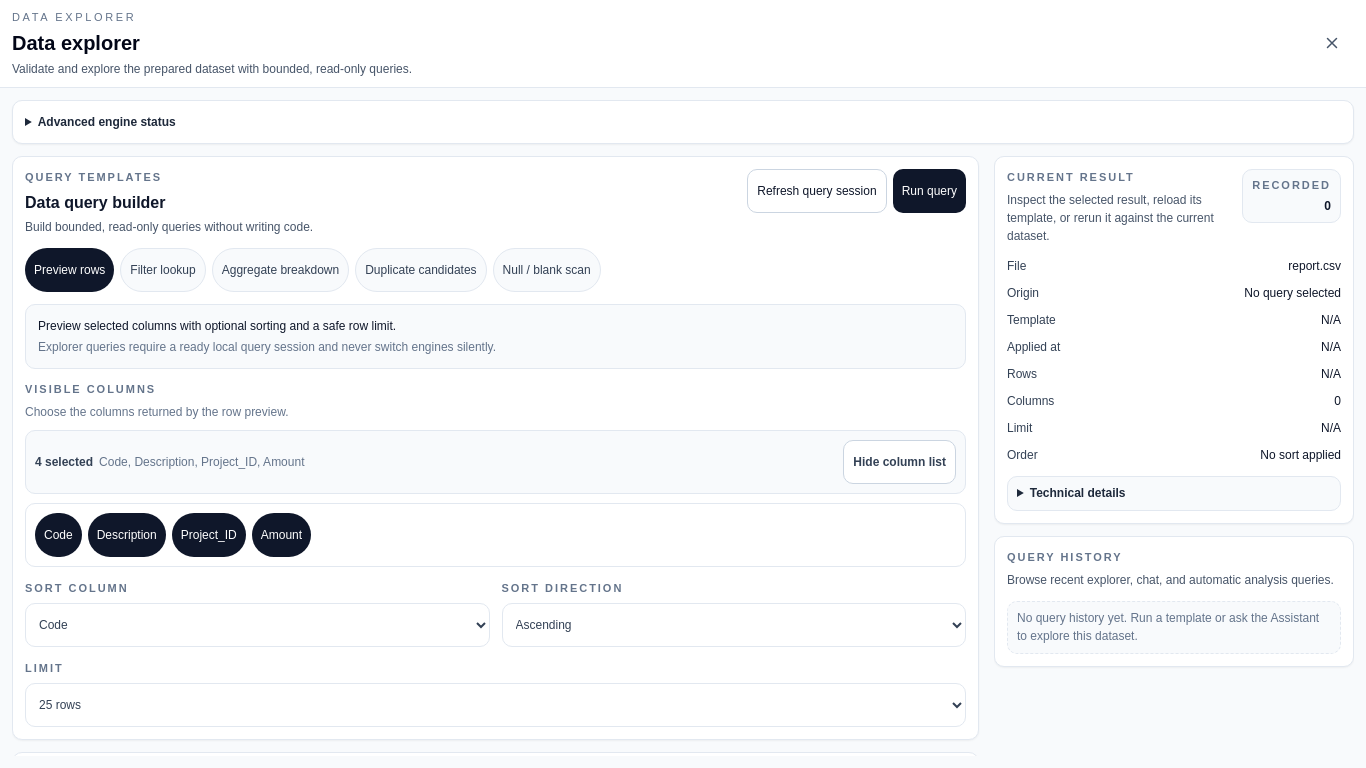
it: DatabaseModal › shows a committed success state using the returned workspace outcome
This screenshot has width=1366, height=768.
Click the button "Run query" at (929, 190), box [893,168,966,212]
(page scrolled)
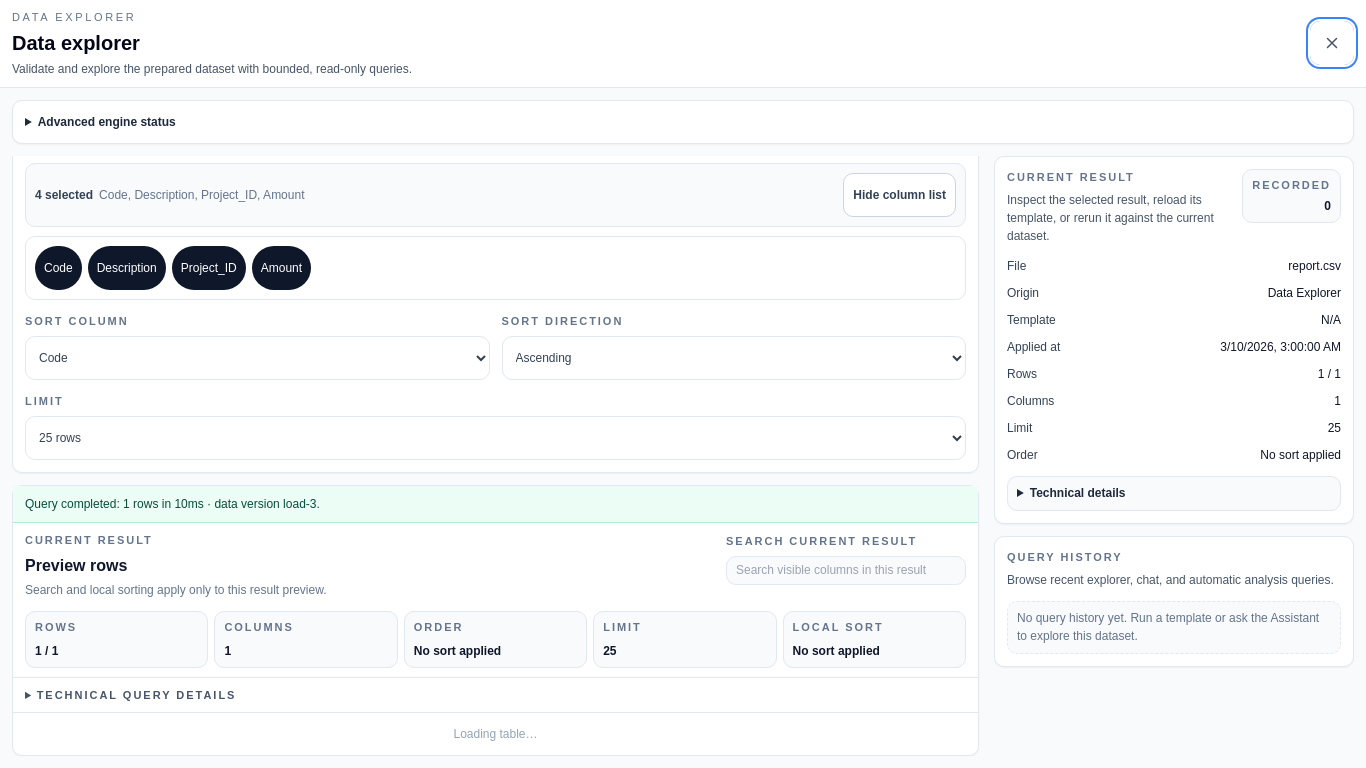
Check: the message shows "Query completed: 1 rows in 10ms", box [25,496,320,510]
Check: the message shows "data version load-3", box [25,496,320,510]
Check: the text "No query selected" is gone
